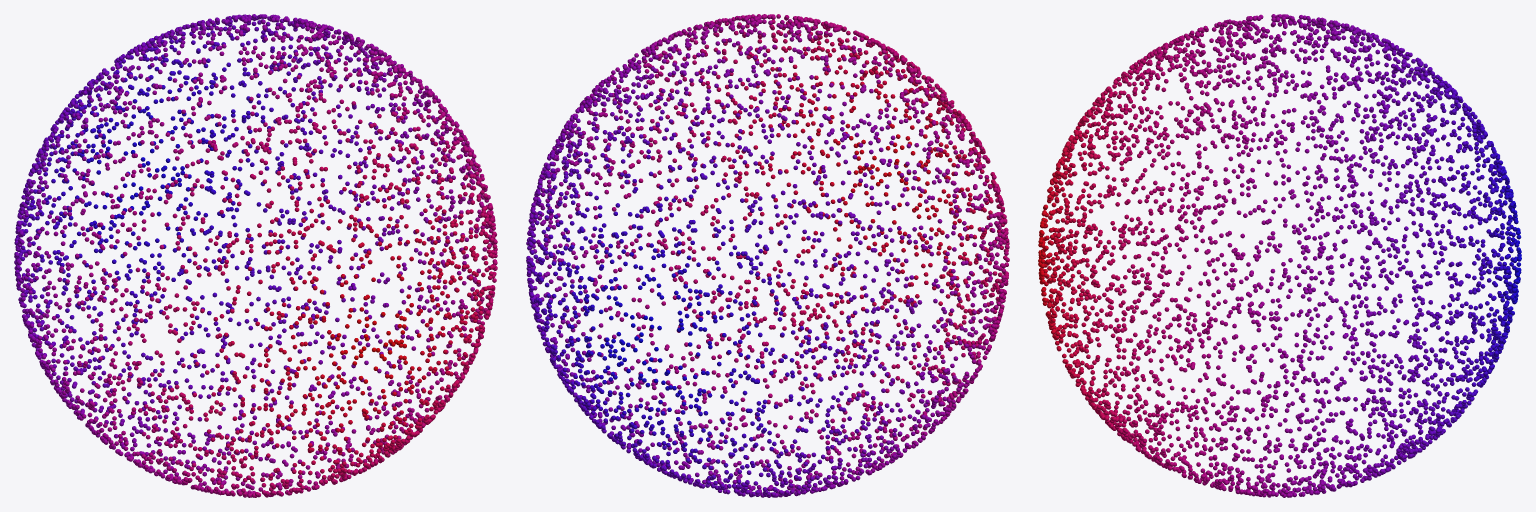
Rendered from fsaverage_bilateral_geodesic.glb.
3 renders of one model, left to right at view 1: azimuth 30°, elevation 25°; view 2: azimuth 150°, elevation 25°; view 3: azimuth 270°, elevation 25°, orthographic.
Parts seen in each view (by area): view 1: world; view 2: world; view 3: world.
Part boxes in pixels (box(x1,y1,x2,y2)): world: box(14, 14, 497, 497); world: box(526, 14, 1009, 497); world: box(1038, 14, 1521, 497).
Bounding box in the file's own units: 202 × 202 × 202.
